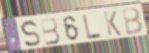6: (62, 15, 81, 43)
B: (120, 6, 145, 36), (39, 17, 62, 47)
K: (103, 10, 123, 37)
L: (82, 14, 103, 40)
S: (20, 19, 42, 49)
